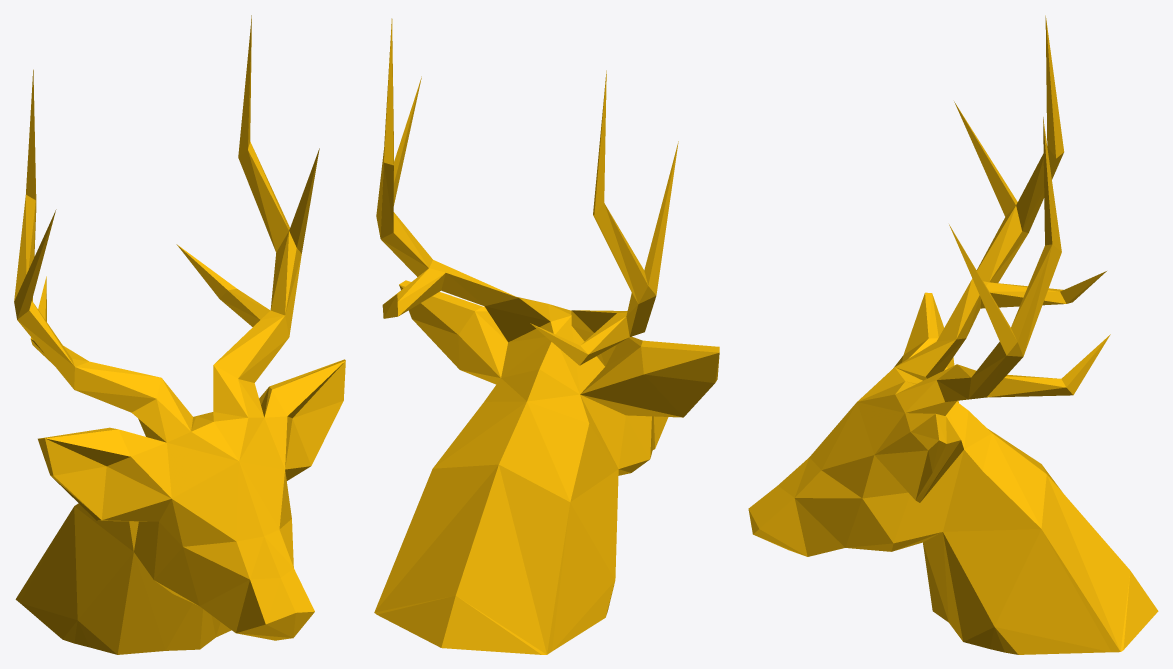
The model's file is Prop_Christmas_Ornament_Reindeer_Head_Gold_01.FBX.
3 views of the same model, side by side, from view 1: azimuth 30°, elevation 25°; view 2: azimuth 150°, elevation 25°; view 3: azimuth 270°, elevation 25° (orthographic). The views are drawn at different scales.
Parts seen in each view (by area): view 1: Prop_Christmas_Ornament_Reindeer_Head_Gold_01; view 2: Prop_Christmas_Ornament_Reindeer_Head_Gold_01; view 3: Prop_Christmas_Ornament_Reindeer_Head_Gold_01.
Part boxes in pixels (x1,y1,x2,y2): Prop_Christmas_Ornament_Reindeer_Head_Gold_01: (14,15,345,654); Prop_Christmas_Ornament_Reindeer_Head_Gold_01: (374,18,719,654); Prop_Christmas_Ornament_Reindeer_Head_Gold_01: (748,15,1158,654).
Bounding box in the file's own units: 344 × 592 × 403.
